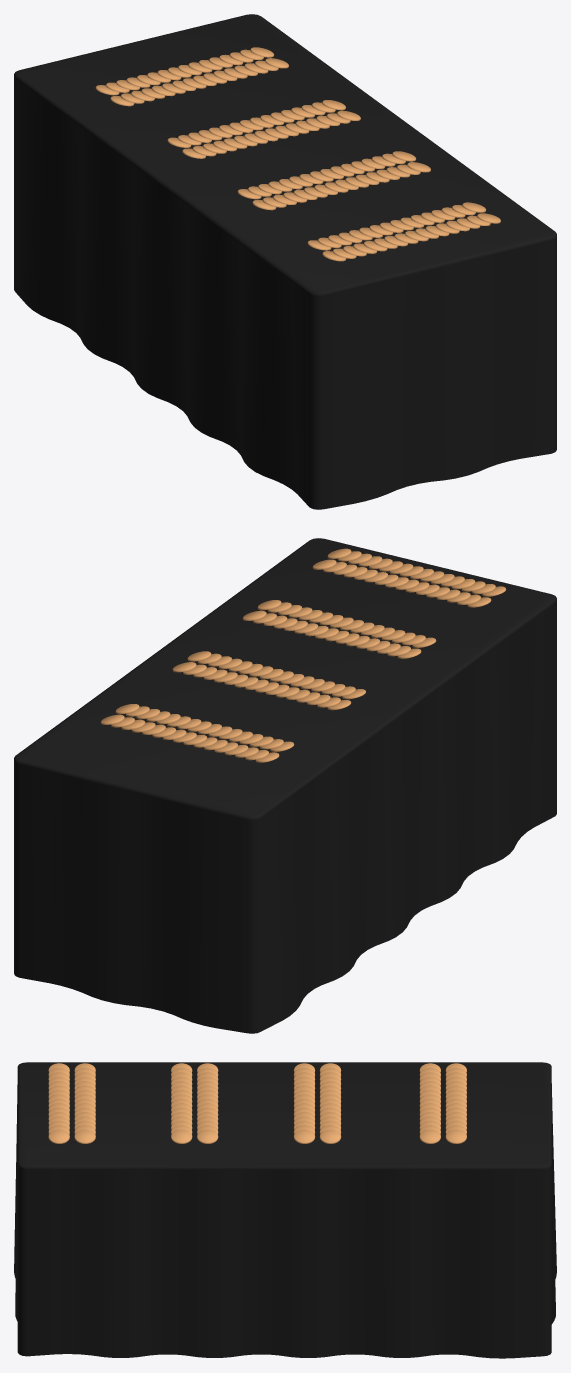
File: pantry-2.glb
3 views of the same model, one above another, from view 1: azimuth 30°, elevation 25°; view 2: azimuth 150°, elevation 25°; view 3: azimuth 270°, elevation 25° (orthographic). The views are drawn at different scales.
Parts seen in each view (by area): view 1: Cube.1032_Cube.001; view 2: Cube.1032_Cube.001; view 3: Cube.1032_Cube.001.
Part boxes in pixels (box(x1,y1,x2,y2)): Cube.1032_Cube.001: box(14, 14, 556, 509); Cube.1032_Cube.001: box(14, 538, 556, 1033); Cube.1032_Cube.001: box(14, 1062, 556, 1358).
Bounding box in the file's own units: 2.05 × 1.77 × 4.3.
